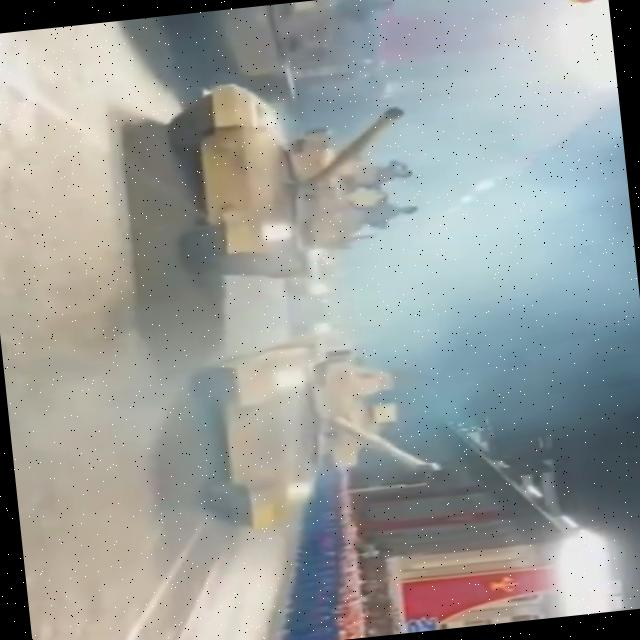north tank: (145, 53, 449, 300), (168, 323, 463, 545)
